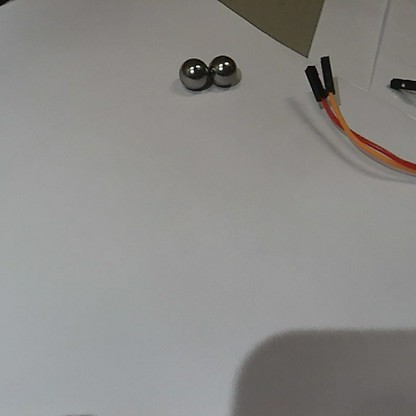ironball: (207, 52, 244, 91), (174, 53, 209, 93)
